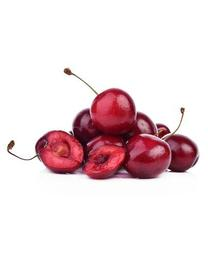cherry: (123, 133, 171, 179), (91, 88, 137, 134), (35, 129, 83, 173), (162, 134, 198, 173), (85, 142, 125, 177), (74, 108, 106, 144), (130, 112, 154, 138)
